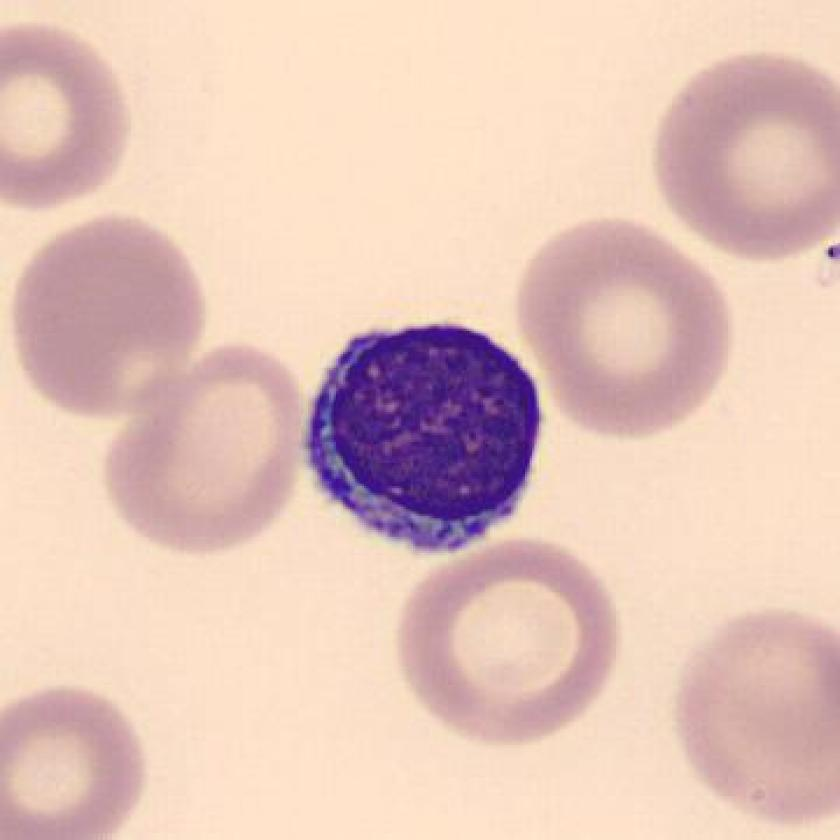lymphocyte: (293, 311, 556, 570)
